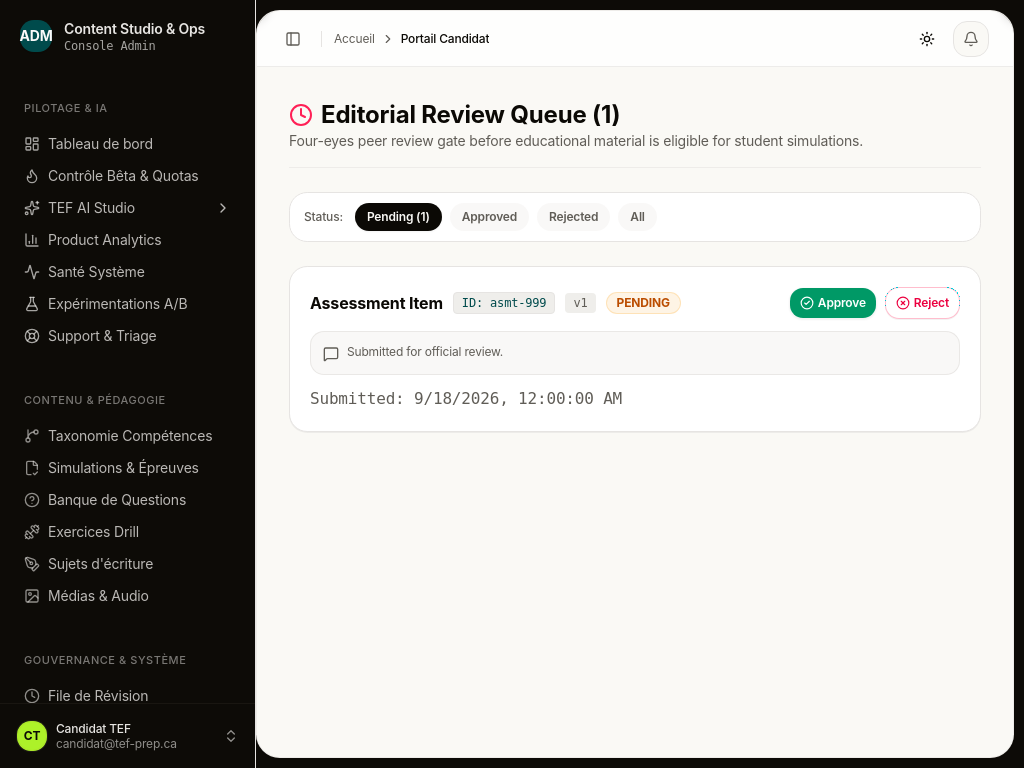
Scenario: Content Studio Admin UI › renders ReviewsManagerPage and opens decision modal
Expected: the heading "Editorial Review Queue (1)" is shown, [289,100,620,129]
Expected: the text "assessment Item" is shown, [310,291,443,315]
// Click Approve button
Click the button "Approve": click(833, 303) [789,287,877,319]
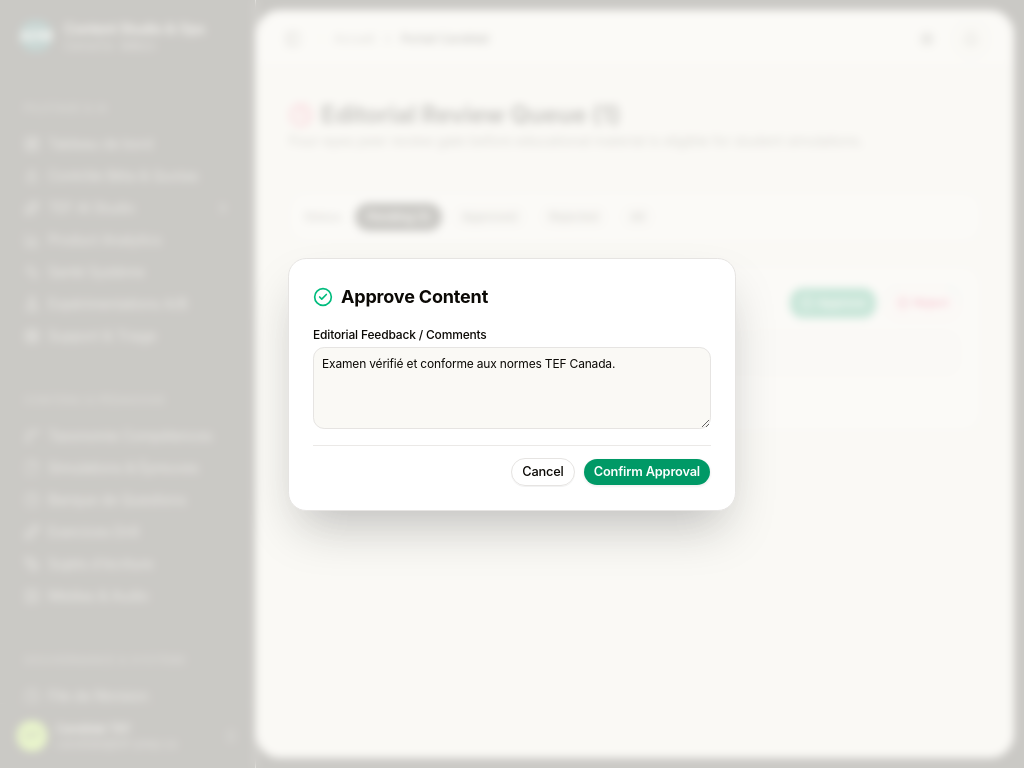
Expected: the heading "Approve Content" is shown, [313,286,488,306]
Expected: the button "Confirm Approval" is shown, [583,458,711,486]
